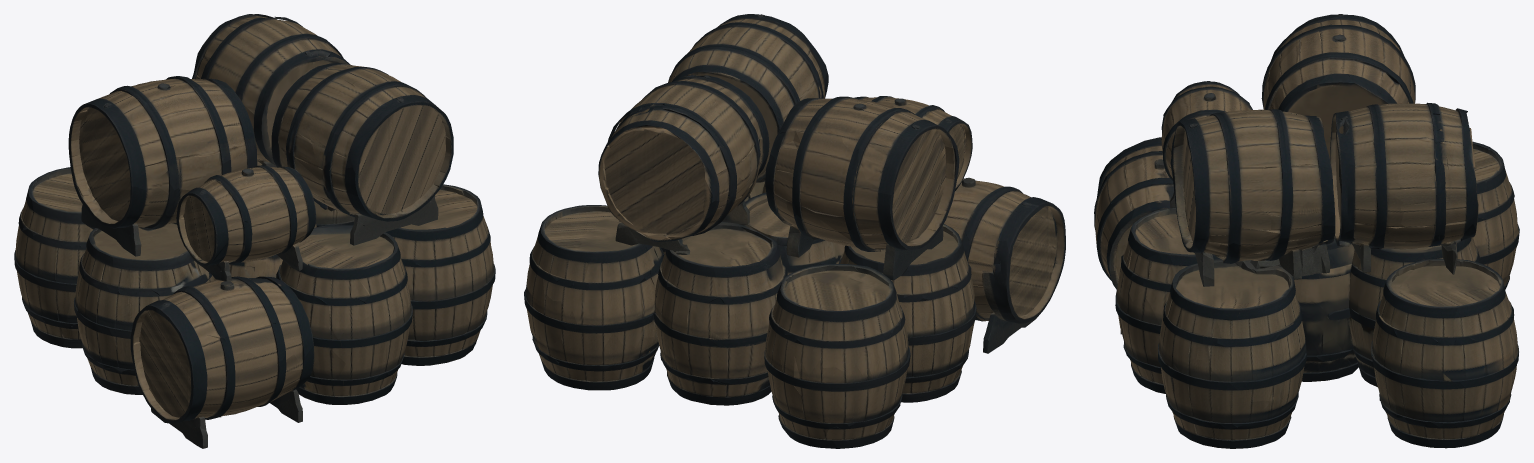
File: barrels_crates.glb
The picture shows the model from 3 angles, left to right: view 1: azimuth 30°, elevation 25°; view 2: azimuth 150°, elevation 25°; view 3: azimuth 270°, elevation 25°; orthographic projection. The views are drawn at different scales.
Bounding box in the file's own units: 1.9 × 1.35 × 1.84.
Materials: 1 (1 with a texture image).
